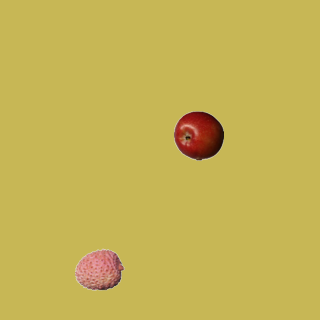Apple Braeburn: (173, 110, 223, 160)
Lychee: (74, 244, 124, 294)
